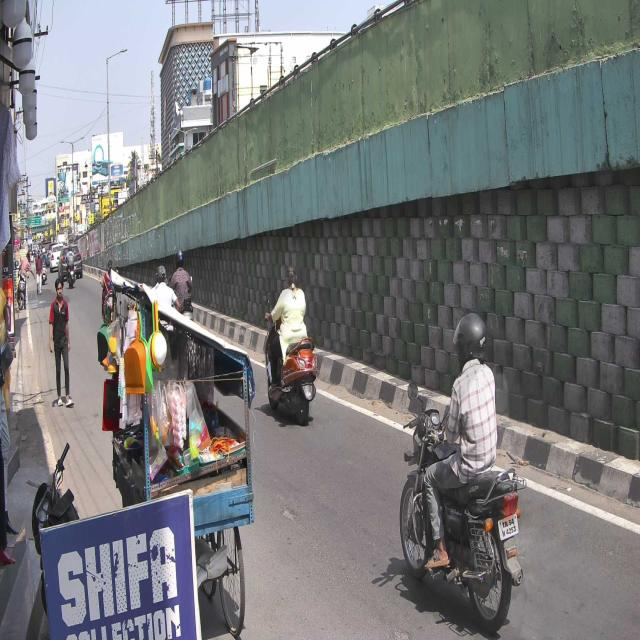single_rider: (399, 311, 523, 634), (263, 266, 318, 427)
